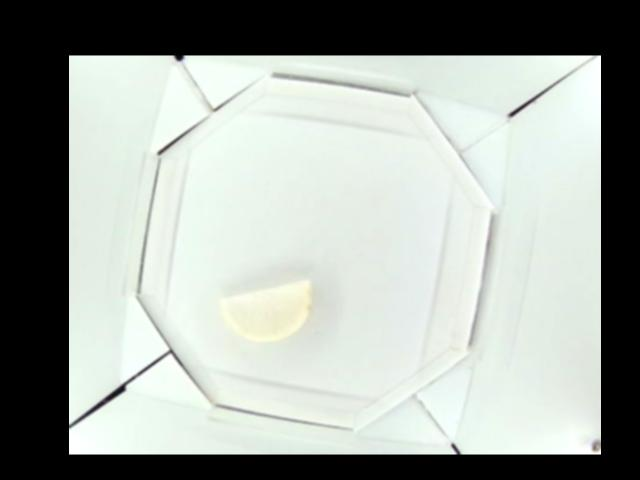Mooli: (221, 278, 311, 341)
